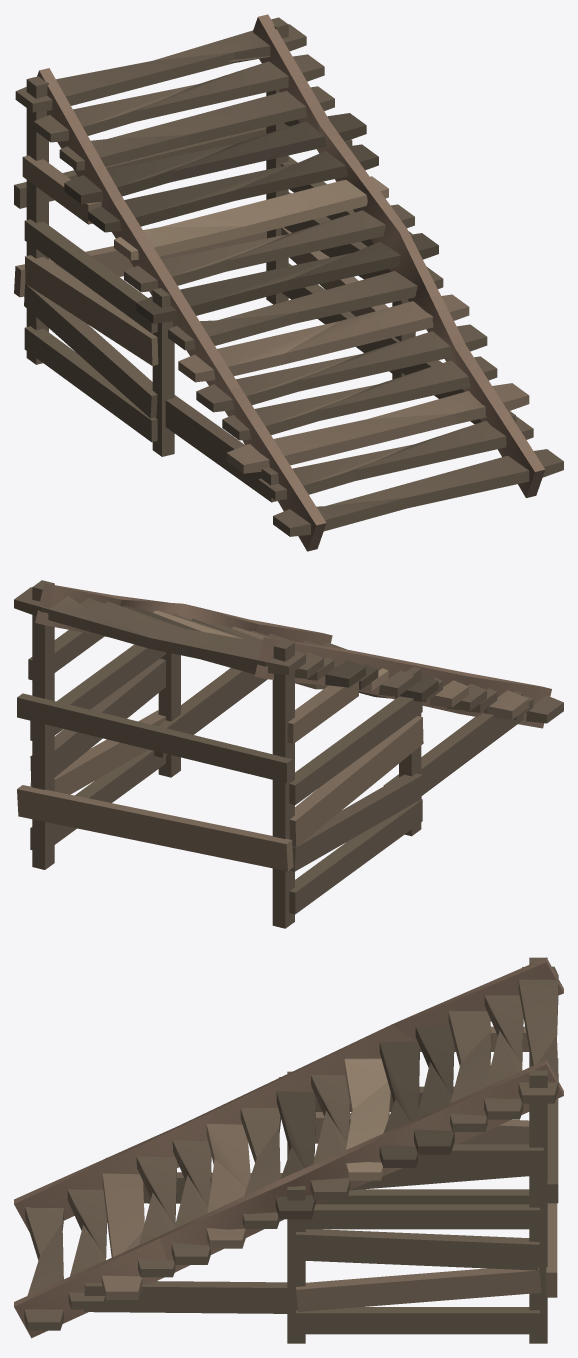
Rendered from Scale1.fbx.
The picture shows the model from 3 angles, top to bottom: view 1: azimuth 30°, elevation 25°; view 2: azimuth 150°, elevation 25°; view 3: azimuth 270°, elevation 25°; orthographic projection. The views are drawn at different scales.
Visible parts, largest first — view 1: SM_Bld_Shanty_Preset_23.001; view 2: SM_Bld_Shanty_Preset_23.001; view 3: SM_Bld_Shanty_Preset_23.001.
Part boxes in pixels (x1,y1,x2,y2): SM_Bld_Shanty_Preset_23.001: (14, 14, 563, 551); SM_Bld_Shanty_Preset_23.001: (14, 580, 563, 928); SM_Bld_Shanty_Preset_23.001: (14, 957, 563, 1343).
Size of the model in its own units: 281 by 268 by 488.
1 material, 1 textured.
